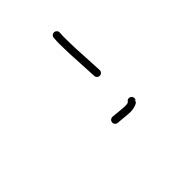b: (40, 19, 116, 97)
